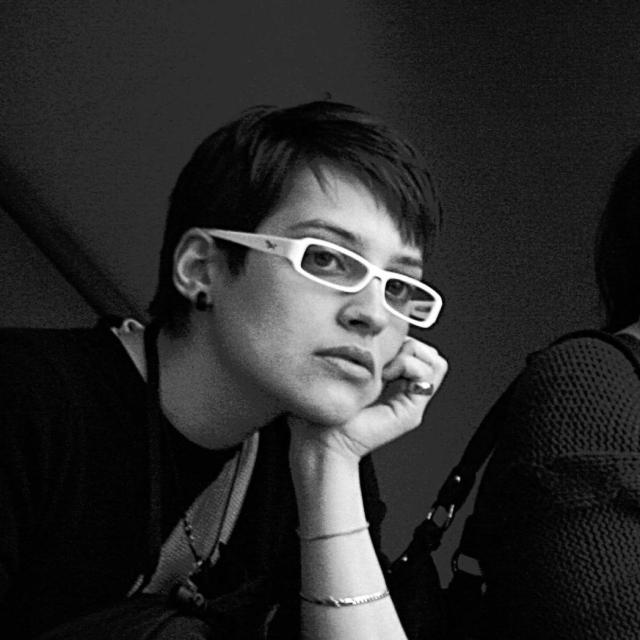no-glass: (299, 244, 414, 306)
